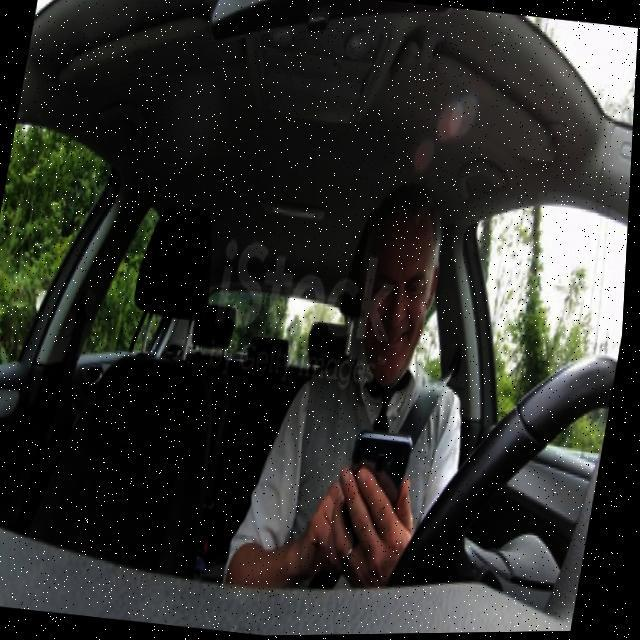PhoneCall: (342, 425, 418, 546)
